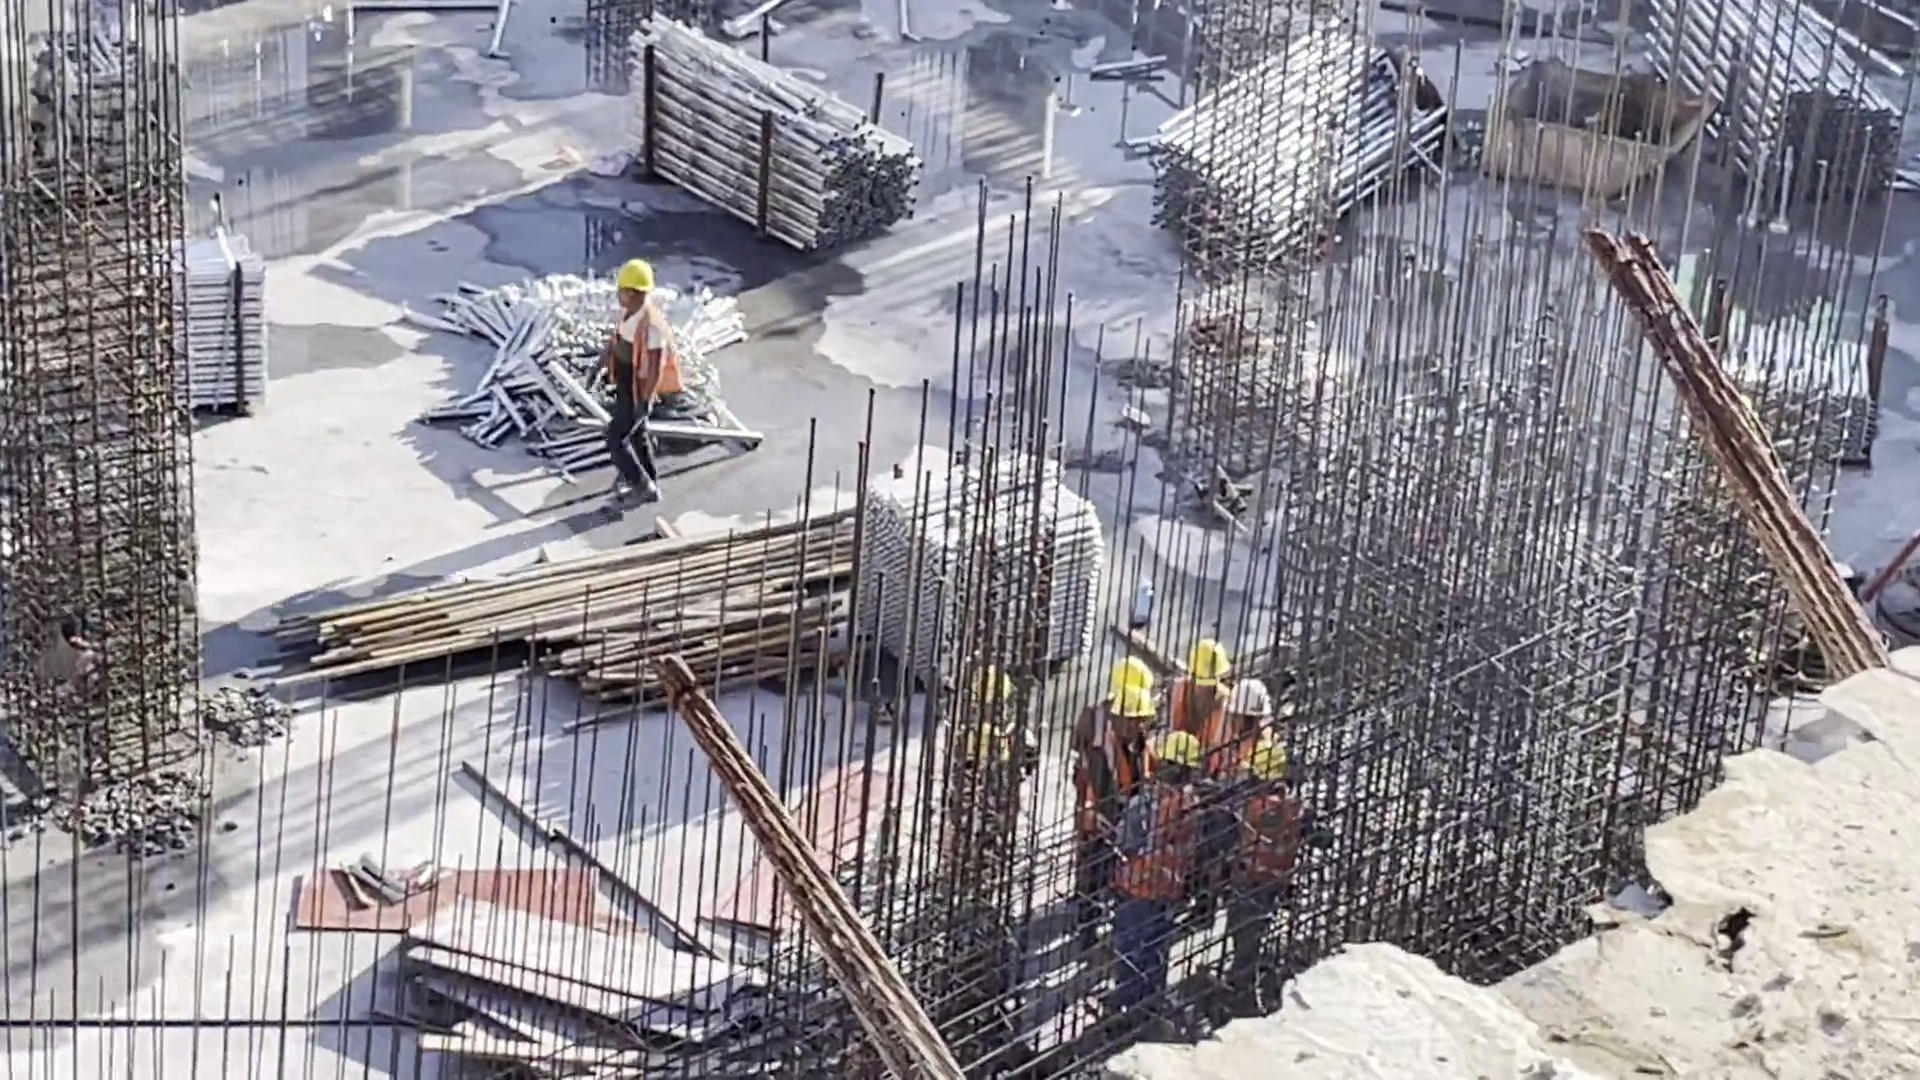helmet: (957, 729, 1011, 767), (972, 665, 1016, 703), (1157, 735, 1201, 768), (1231, 681, 1269, 718), (1190, 646, 1232, 678), (1114, 688, 1155, 720), (1244, 743, 1274, 782), (1115, 662, 1152, 692), (618, 260, 645, 289)
person: (1217, 738, 1312, 991), (1114, 731, 1204, 994), (592, 257, 664, 511), (1075, 689, 1142, 877), (1157, 640, 1233, 748), (1206, 675, 1278, 791), (1069, 662, 1161, 746)
vest: (611, 314, 682, 419), (1128, 791, 1186, 912), (1242, 793, 1298, 883), (1083, 743, 1141, 818), (1212, 728, 1259, 787), (1172, 696, 1225, 746)
